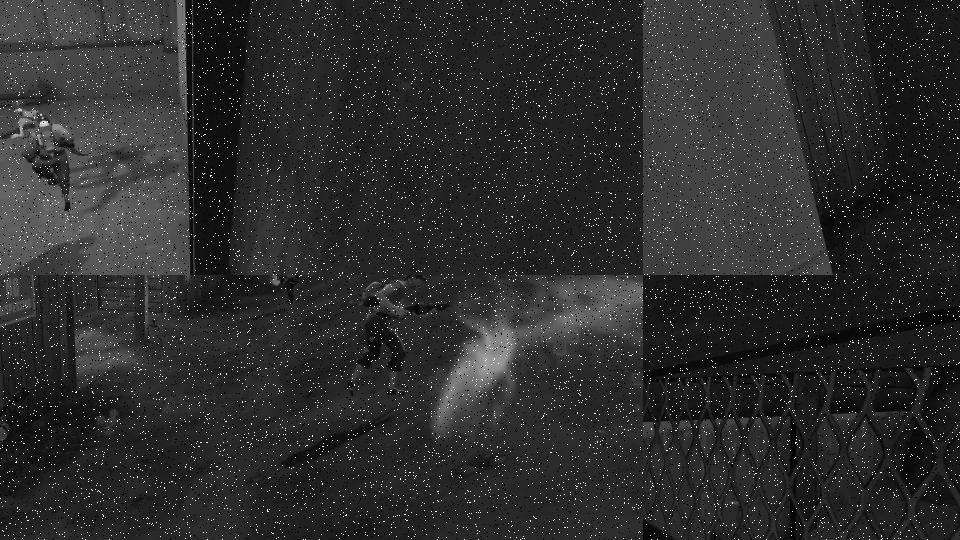Enemy: (345, 275, 449, 397), (18, 107, 84, 215), (0, 388, 33, 516), (0, 97, 55, 166), (267, 275, 303, 306)
